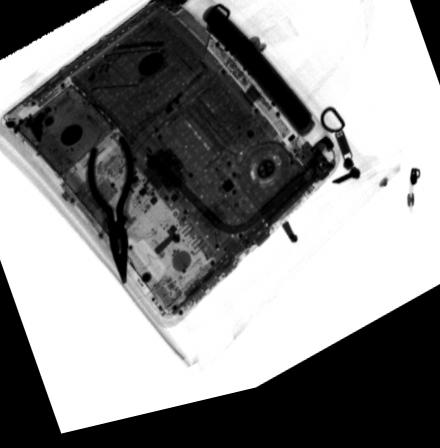Pliers: (84, 139, 140, 290)
